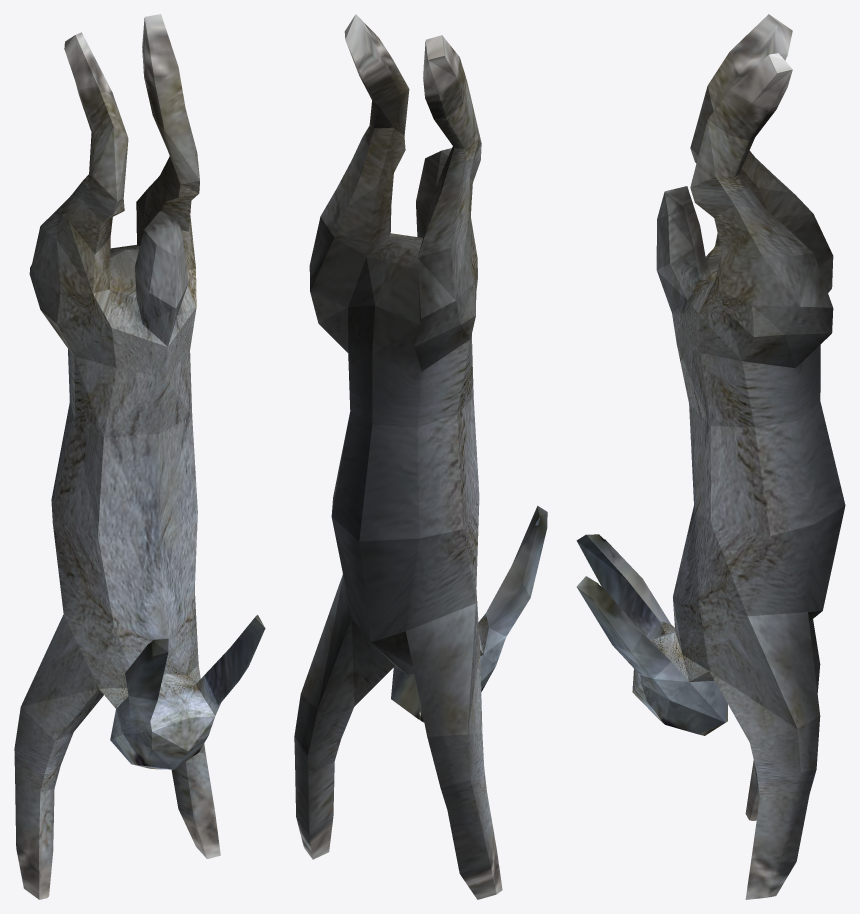
Rendered from hare.obj.
3 renders of one model, left to right at view 1: azimuth 30°, elevation 25°; view 2: azimuth 150°, elevation 25°; view 3: azimuth 270°, elevation 25°, orthographic. The views are drawn at different scales.
Visible parts, largest first — view 1: hare; view 2: hare; view 3: hare.
Part boxes in pixels (<box>): hare: <box>14,14,265,899</box>; hare: <box>294,14,547,899</box>; hare: <box>576,14,845,899</box>.
Bounding box in the file's own units: 39.72 × 167 × 49.37.
1 material, 1 textured.
